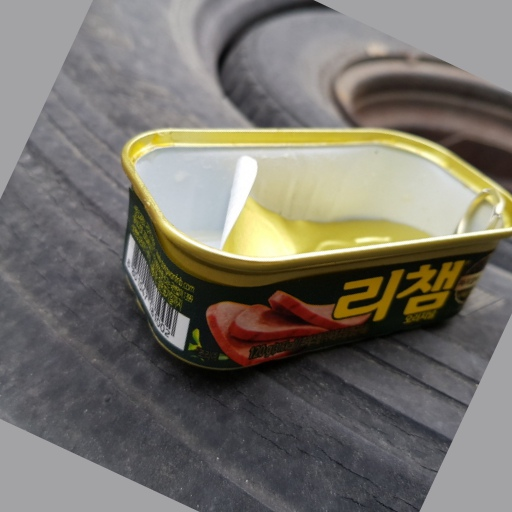Metal_2: (119, 124, 512, 372)
